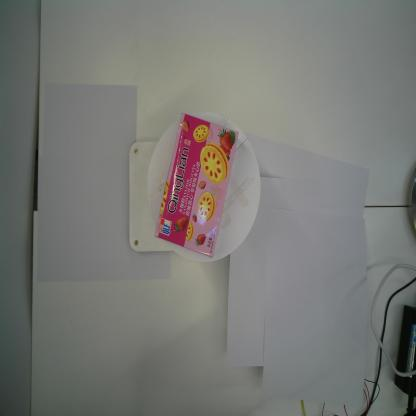Dessert: (154, 111, 240, 260)
